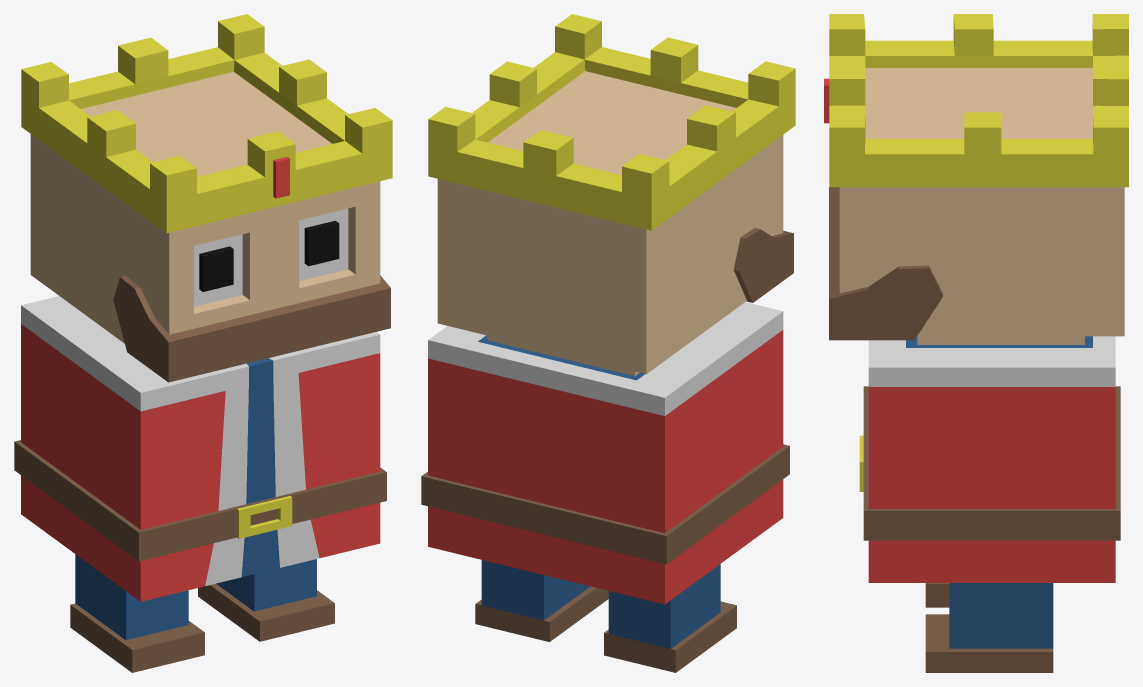
File: Player_King_Stade2.fbx
3 renders of one model, left to right at view 1: azimuth 30°, elevation 25°; view 2: azimuth 150°, elevation 25°; view 3: azimuth 270°, elevation 25°, orthographic. The views are drawn at different scales.
Parts seen in each view (by area): view 1: Player_King_Stade2; view 2: Player_King_Stade2; view 3: Player_King_Stade2.
Boxes of the visible parts, bbox=[...] form: Player_King_Stade2: bbox=[14, 14, 392, 672]; Player_King_Stade2: bbox=[421, 14, 795, 672]; Player_King_Stade2: bbox=[824, 14, 1128, 672].
Bounding box in the file's own units: 79.28 × 163 × 81.94.
